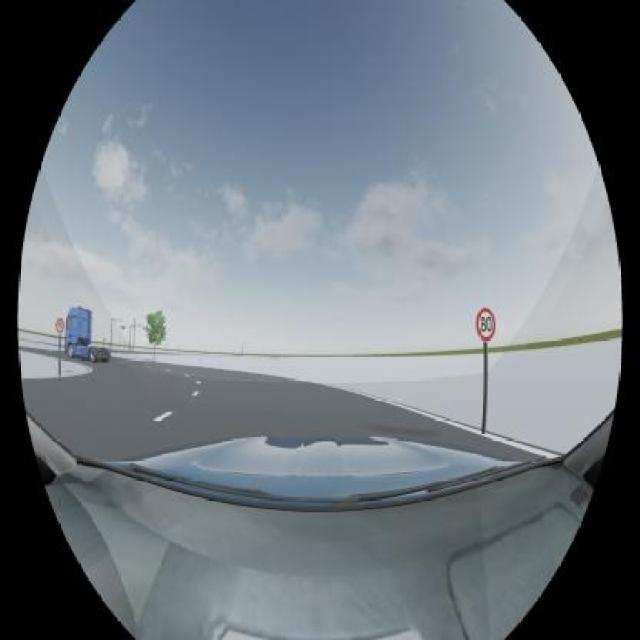forb_speed_over_80: (476, 307, 496, 342)
